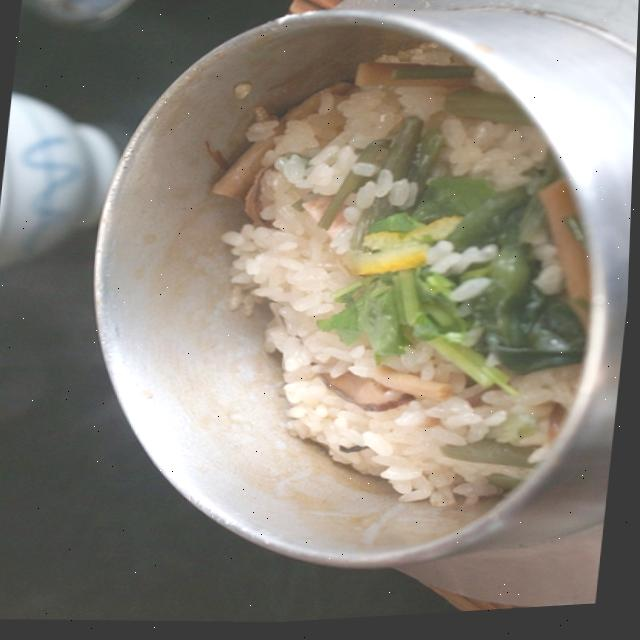蔬菜料理: (132, 36, 532, 563)
